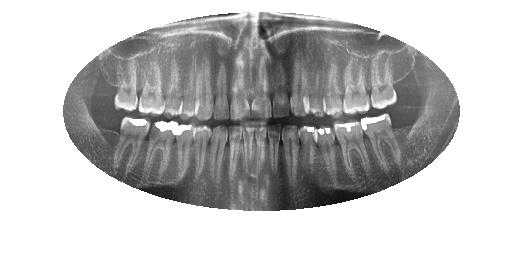i10healthy: (226, 117, 244, 198)
i11healthy: (207, 120, 230, 193)
i12healthy: (189, 120, 213, 189)
i13healthy: (169, 115, 197, 192)
i14healthy: (142, 111, 175, 192)
i15healthy: (111, 109, 152, 186)
i2healthy: (359, 110, 402, 173)
i3healthy: (329, 114, 377, 184)
i4healthy: (308, 119, 342, 186)
i5healthy: (295, 119, 321, 189)
i6healthy: (279, 118, 302, 189)
i7healthy: (264, 117, 282, 190)
i8healthy: (252, 117, 269, 186)
i9healthy: (240, 118, 258, 188)
u10healthy: (211, 50, 235, 125)
u11healthy: (192, 50, 215, 123)
u12healthy: (176, 52, 201, 122)
u13healthy: (160, 52, 186, 121)
u14healthy: (137, 55, 168, 121)
u15healthy: (111, 53, 142, 120)
u2healthy: (368, 53, 401, 114)
u3healthy: (339, 54, 372, 121)
u4healthy: (320, 54, 345, 124)
u5healthy: (298, 52, 329, 120)
u6healthy: (285, 50, 314, 121)
u7healthy: (268, 55, 293, 121)
u8healthy: (247, 57, 277, 123)
u9healthy: (225, 58, 254, 125)
